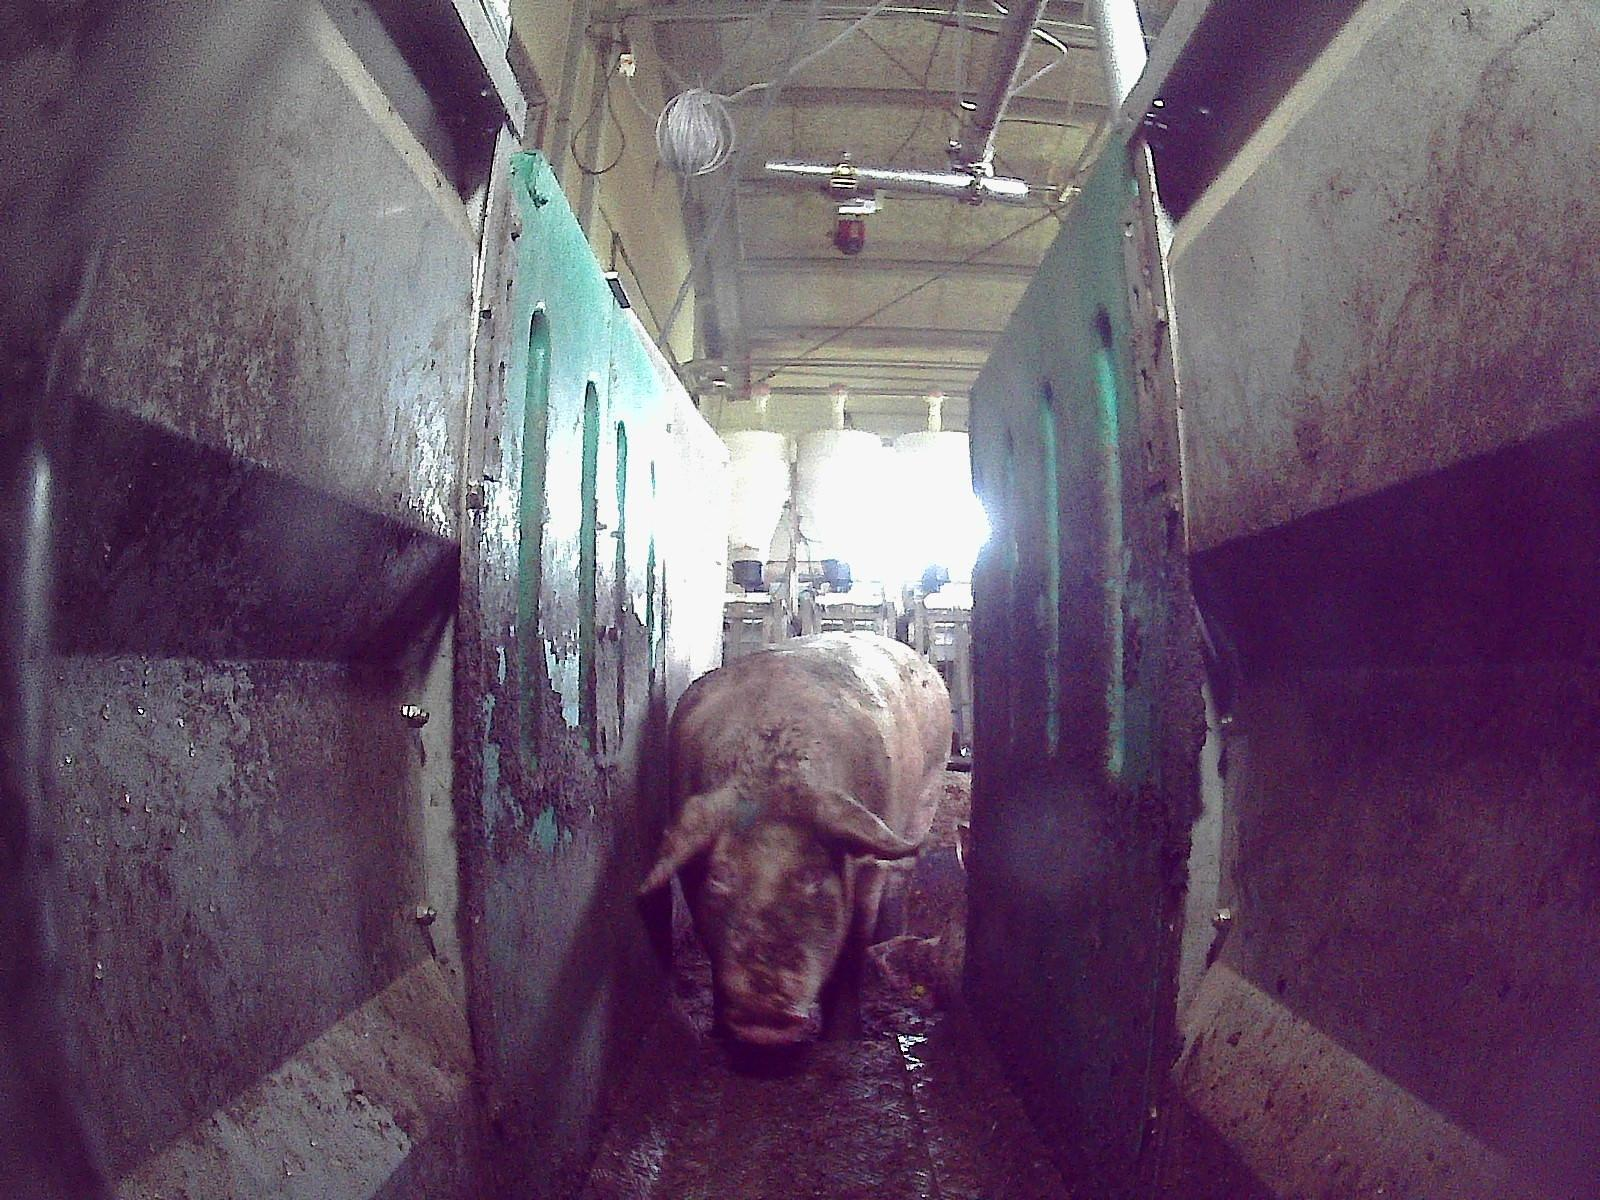Face: (689, 781, 865, 1044)
